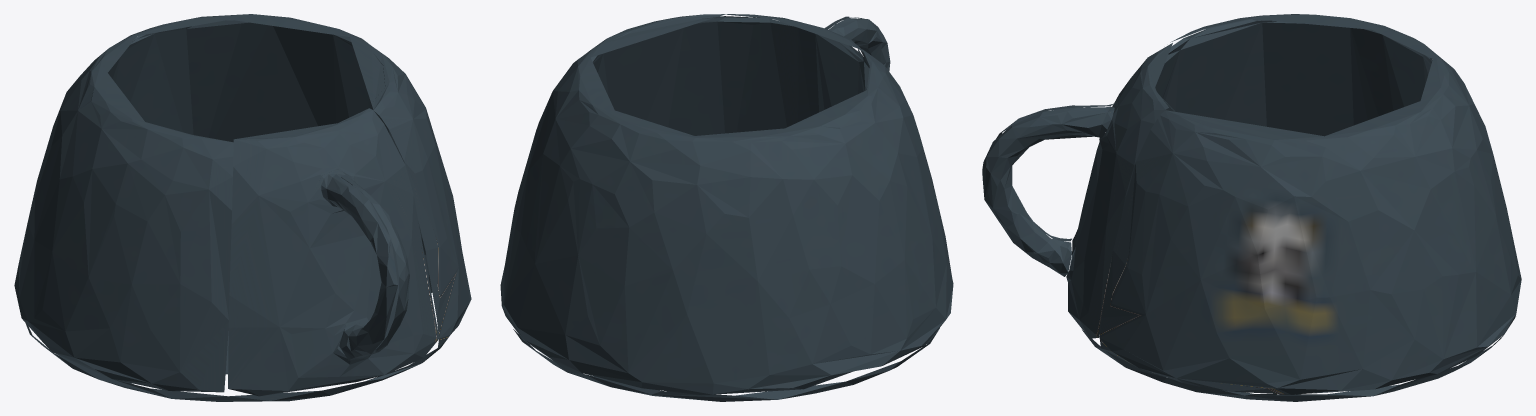
File: kitchenware_mug_j01.glb
3 renders of one model, left to right at view 1: azimuth 30°, elevation 25°; view 2: azimuth 150°, elevation 25°; view 3: azimuth 270°, elevation 25°, orthographic.
Visible parts, largest first — view 1: geometry_0; view 2: geometry_0; view 3: geometry_0.
Part boxes in pixels (<box>): geometry_0: <box>14,14,471,401</box>; geometry_0: <box>500,14,953,401</box>; geometry_0: <box>982,14,1521,401</box>.
Size of the model in its own units: 0.3544 by 0.2079 by 0.42.
Materials: 1 (1 with a texture image).
